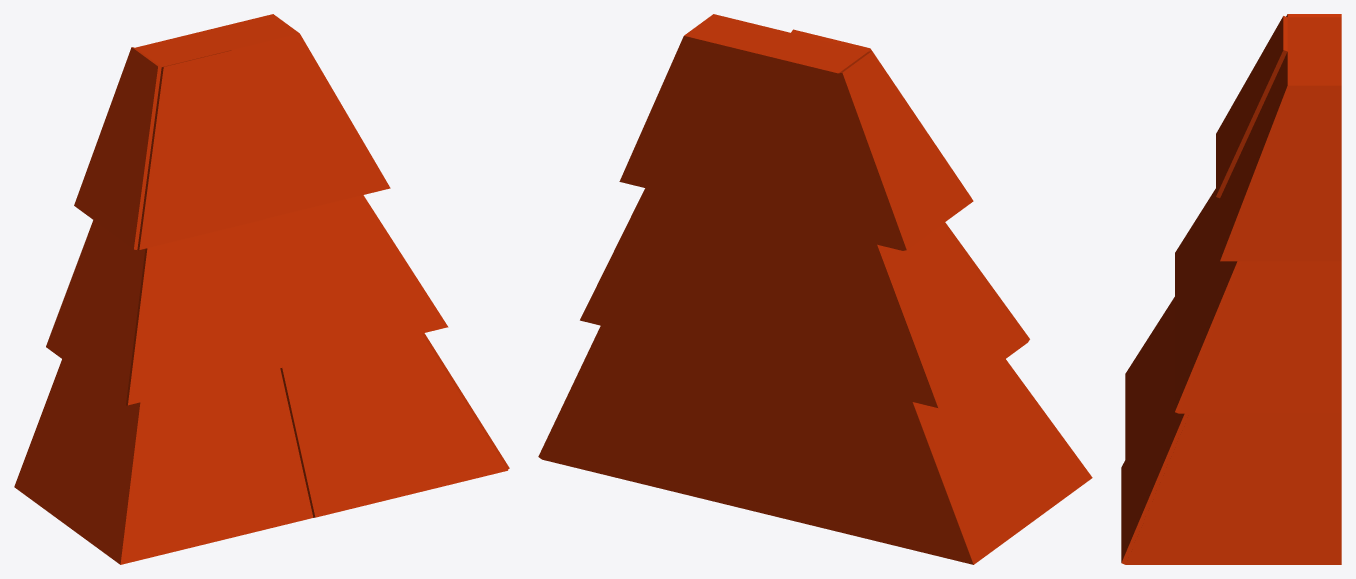
Rendered from Building_Facade_Modular_Roof_06.fbx.
The picture shows the model from 3 angles, left to right: view 1: azimuth 30°, elevation 25°; view 2: azimuth 150°, elevation 25°; view 3: azimuth 270°, elevation 25°; orthographic projection. The views are drawn at different scales.
Parts seen in each view (by area): view 1: Building_Facade_Modular_Roof_06; view 2: Building_Facade_Modular_Roof_06; view 3: Building_Facade_Modular_Roof_06.
Boxes of the visible parts, x1,y1,x2,y2 form: Building_Facade_Modular_Roof_06: [14, 14, 509, 564]; Building_Facade_Modular_Roof_06: [538, 14, 1092, 564]; Building_Facade_Modular_Roof_06: [1121, 14, 1341, 564].
Size of the model in its own units: 987 by 996 by 476.
